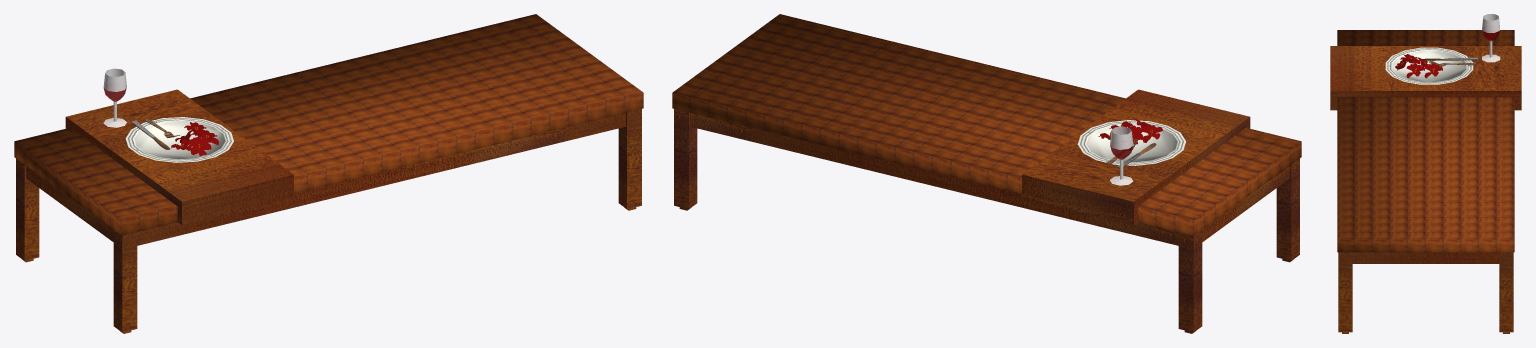
3 renders of one model, left to right at view 1: azimuth 30°, elevation 25°; view 2: azimuth 150°, elevation 25°; view 3: azimuth 270°, elevation 25°, orthographic. The views are drawn at different scales.
Visible parts, largest first — view 1: mesh4_mesh4-geometry, mesh16_mesh16-geometry, mesh13_mesh13-geometry, mesh7_mesh7-geometry, mesh20_mesh20-geometry, mesh11_mesh11-geometry, mesh21_mesh21-geometry, mesh47_mesh47-geometry; view 2: mesh4_mesh4-geometry, mesh16_mesh16-geometry, mesh13_mesh13-geometry, mesh5_mesh5-geometry, mesh20_mesh20-geometry, mesh11_mesh11-geometry, mesh21_mesh21-geometry; view 3: mesh4_mesh4-geometry, mesh16_mesh16-geometry, mesh13_mesh13-geometry, mesh20_mesh20-geometry, mesh9_mesh9-geometry, mesh21_mesh21-geometry, mesh47_mesh47-geometry, mesh19_mesh19-geometry, mesh73_mesh73-geometry.
Part boxes in pixels (left/top/right/bottom): mesh4_mesh4-geometry: left=14, top=14, right=643, bottom=235; mesh16_mesh16-geometry: left=65, top=89, right=293, bottom=225; mesh13_mesh13-geometry: left=16, top=109, right=641, bottom=333; mesh7_mesh7-geometry: left=137, top=113, right=625, bottom=245; mesh20_mesh20-geometry: left=125, top=117, right=233, bottom=162; mesh11_mesh11-geometry: left=26, top=166, right=113, bottom=241; mesh21_mesh21-geometry: left=103, top=68, right=126, bottom=127; mesh47_mesh47-geometry: left=171, top=122, right=218, bottom=150; mesh4_mesh4-geometry: left=672, top=14, right=1301, bottom=235; mesh16_mesh16-geometry: left=1022, top=89, right=1250, bottom=225; mesh13_mesh13-geometry: left=674, top=109, right=1299, bottom=333; mesh5_mesh5-geometry: left=690, top=113, right=1178, bottom=245; mesh20_mesh20-geometry: left=1077, top=120, right=1185, bottom=165; mesh11_mesh11-geometry: left=1202, top=166, right=1289, bottom=241; mesh21_mesh21-geometry: left=1110, top=126, right=1133, bottom=185; mesh4_mesh4-geometry: left=1337, top=30, right=1514, bottom=252; mesh16_mesh16-geometry: left=1330, top=46, right=1521, bottom=110; mesh13_mesh13-geometry: left=1338, top=252, right=1513, bottom=333; mesh20_mesh20-geometry: left=1385, top=47, right=1473, bottom=84; mesh9_mesh9-geometry: left=1352, top=252, right=1499, bottom=263; mesh21_mesh21-geometry: left=1482, top=14, right=1500, bottom=62; mesh47_mesh47-geometry: left=1400, top=54, right=1442, bottom=78; mesh19_mesh19-geometry: left=1419, top=57, right=1478, bottom=61; mesh73_mesh73-geometry: left=1395, top=57, right=1428, bottom=70.
Size of the model in its own units: 0.894 by 0.2861 by 0.3448.
